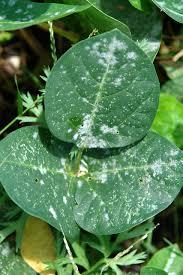embun tepung: (66, 110, 127, 148), (87, 39, 140, 72), (149, 152, 170, 184)
